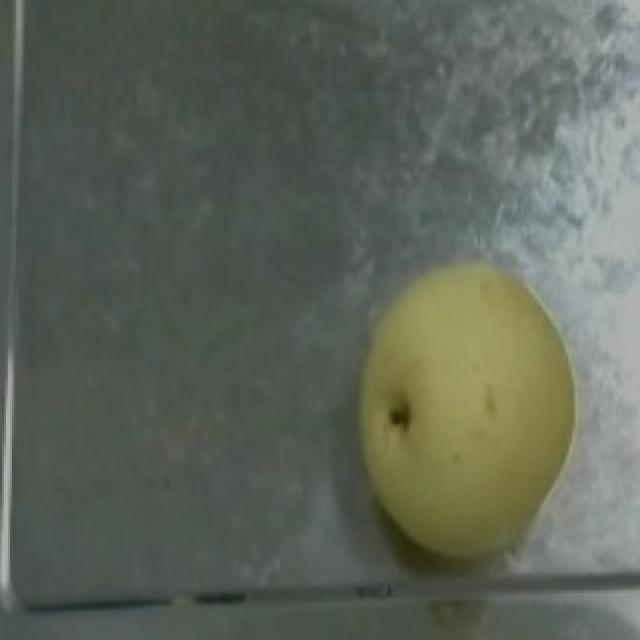Fruit: (326, 238, 592, 571)
